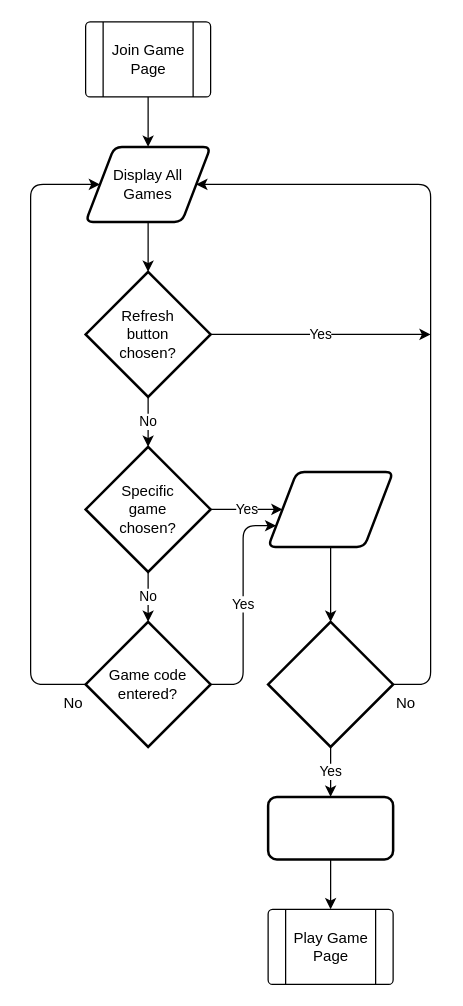
The diagram is 463 pixels wide and 1006 high, and some of its shapes have lost their labels. The shapes that lost their labels are listed below. From the top down, each one's box as (x1, y1, x2, y2) in pixels, then its label:
(266, 470, 394, 548): Display game information
(266, 620, 394, 748): Join game button chosen?
(266, 795, 394, 860): Join Game
